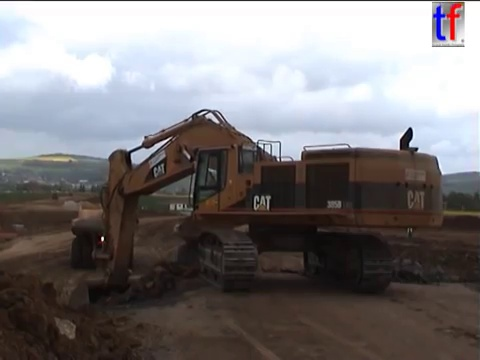excavator: (65, 105, 447, 317)
truck: (171, 200, 289, 270), (68, 197, 142, 273), (50, 191, 60, 202), (65, 189, 74, 198)
worker: (404, 216, 418, 242)
